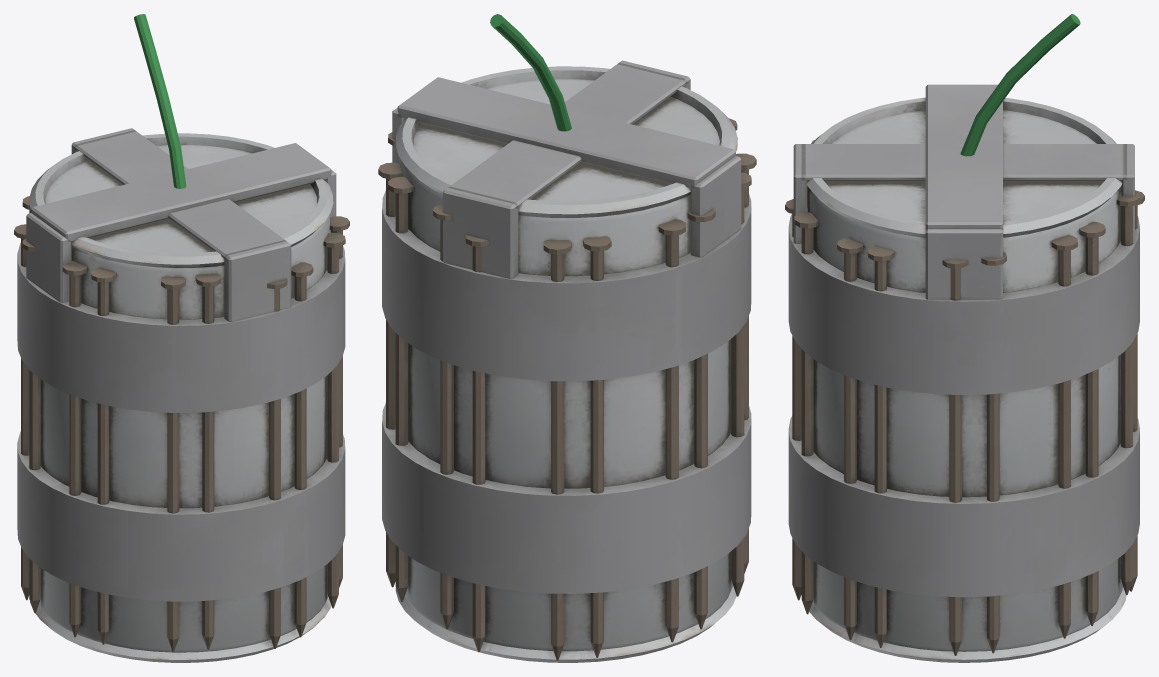
Rendered from bomba_pregos.glb.
3 renders of one model, left to right at view 1: azimuth 30°, elevation 25°; view 2: azimuth 150°, elevation 25°; view 3: azimuth 270°, elevation 25°, orthographic. The views are drawn at different scales.
Visible parts, largest first — view 1: bomba_pregos_lata, bomba_pregos_pavio; view 2: bomba_pregos_lata, bomba_pregos_pavio; view 3: bomba_pregos_lata, bomba_pregos_pavio.
Part boxes in pixels (x1,y1,x2,y2): bomba_pregos_lata: [14, 128, 349, 662]; bomba_pregos_pavio: [134, 14, 186, 188]; bomba_pregos_lata: [378, 60, 756, 662]; bomba_pregos_pavio: [490, 14, 571, 131]; bomba_pregos_lata: [785, 84, 1144, 662]; bomba_pregos_pavio: [960, 14, 1080, 156].
Bounding box in the file's own units: 0.0835 × 0.1511 × 0.0839.
1 material, 1 textured.
